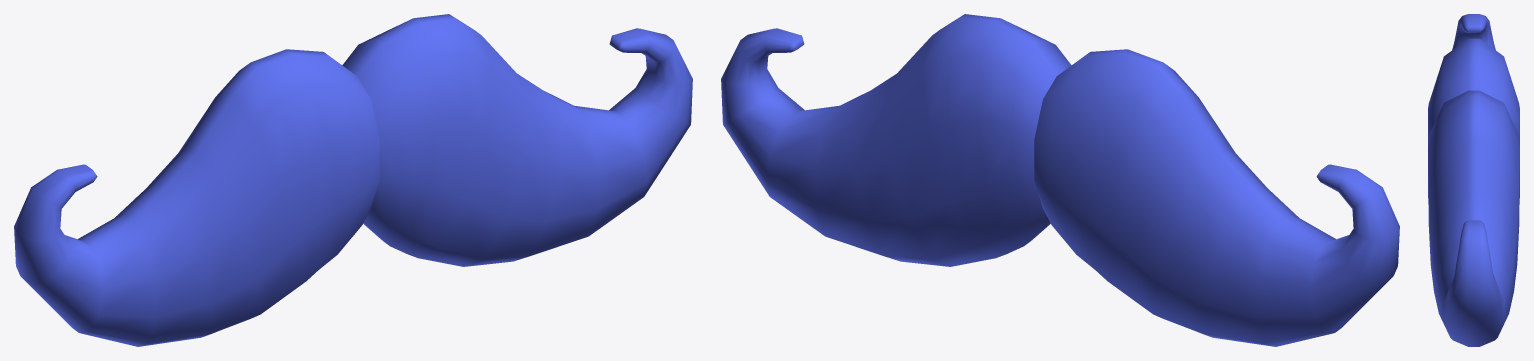
File: Beard_10_03.fbx
3 renders of one model, left to right at view 1: azimuth 30°, elevation 25°; view 2: azimuth 150°, elevation 25°; view 3: azimuth 270°, elevation 25°, orthographic. The views are drawn at different scales.
Parts seen in each view (by area): view 1: Beard_10_03; view 2: Beard_10_03; view 3: Beard_10_03.
Boxes of the visible parts, x1=… form: Beard_10_03: x1=14, y1=14, x2=692, y2=346; Beard_10_03: x1=721, y1=14, x2=1399, y2=346; Beard_10_03: x1=1428, y1=14, x2=1519, y2=346.
Bounding box in the file's own units: 18.39 × 6.86 × 2.89.
